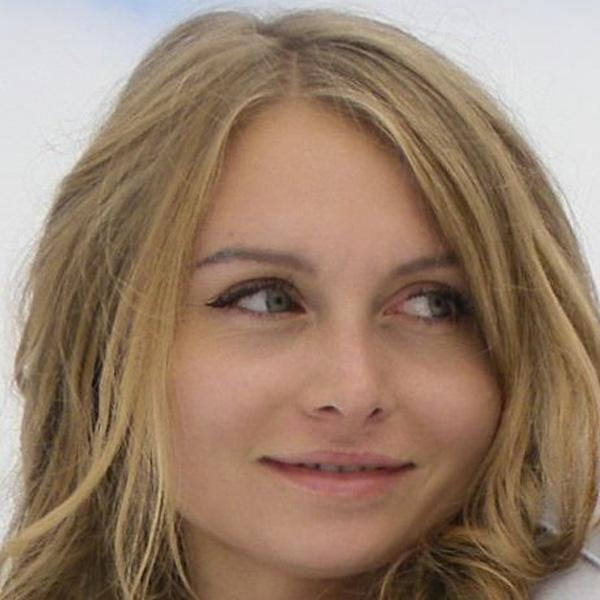Eyes: (209, 266, 310, 331), (381, 273, 470, 331)
